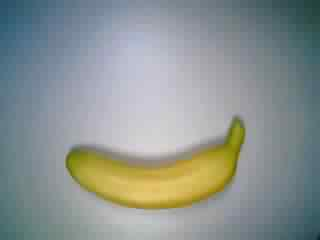banana: (63, 113, 253, 209)
